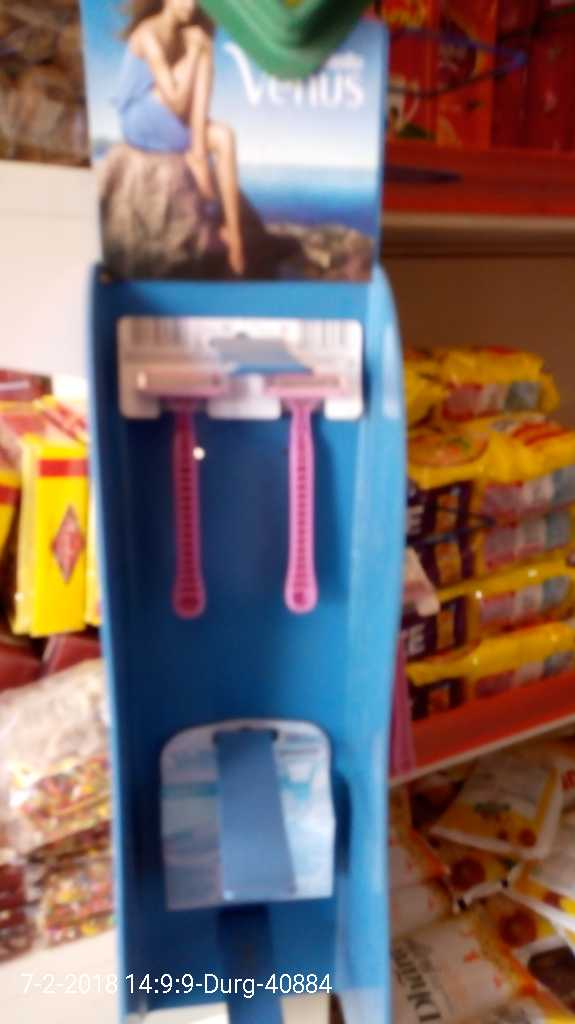reject: (217, 516, 269, 567)
